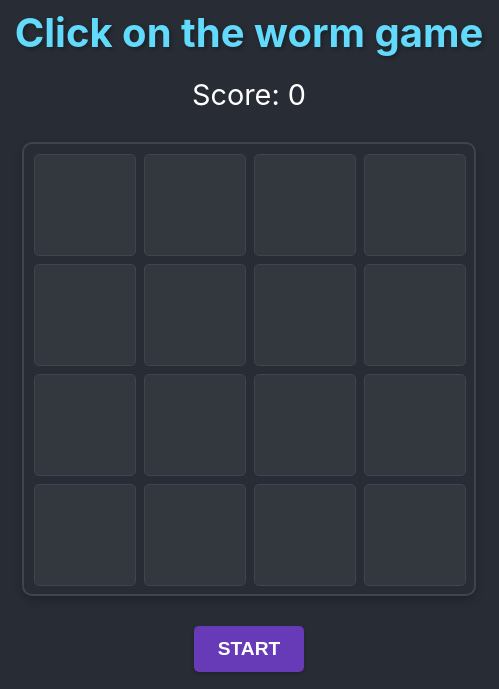
it: Integration Game component test › Click game button
Click the button "START": (249, 649) [194, 626, 304, 672]
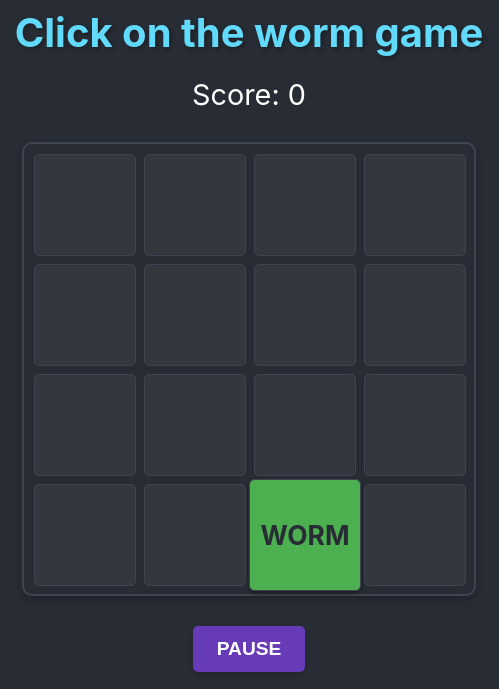
Result: the button named "START" reads "PAUSE" at [193, 626, 305, 672]
Click the cell "WORM": (305, 535) [249, 479, 361, 591]
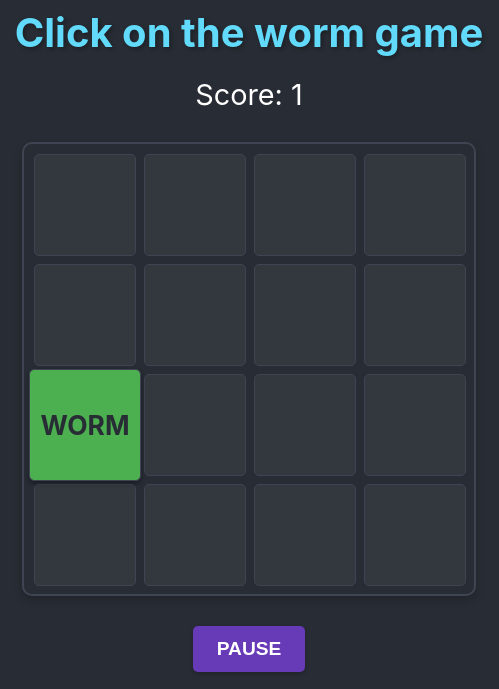
Result: the text "Score: 1" is shown at [195, 77, 303, 112]
